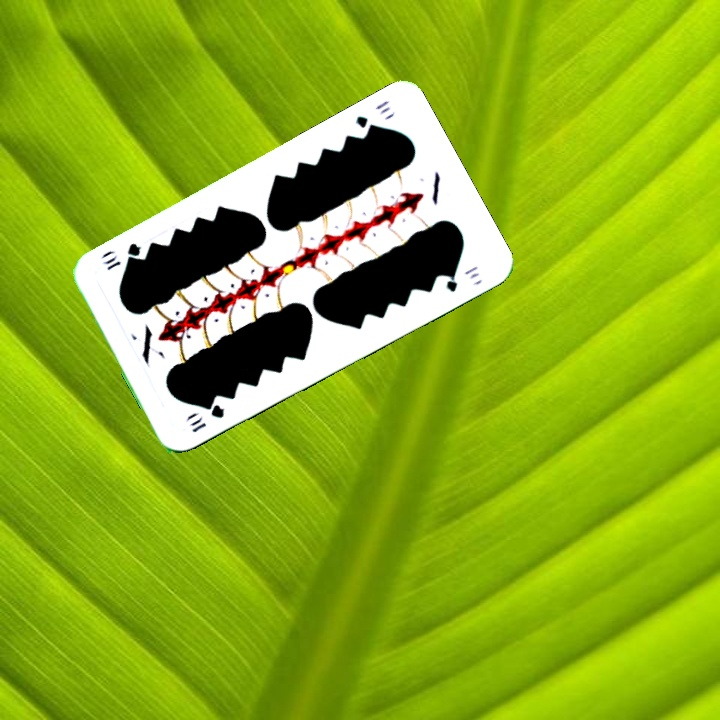G10: (351, 96, 394, 136), (185, 400, 227, 436)
